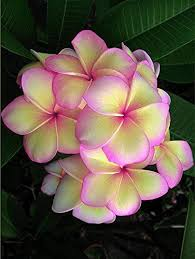frangipani: (82, 76, 170, 164)
